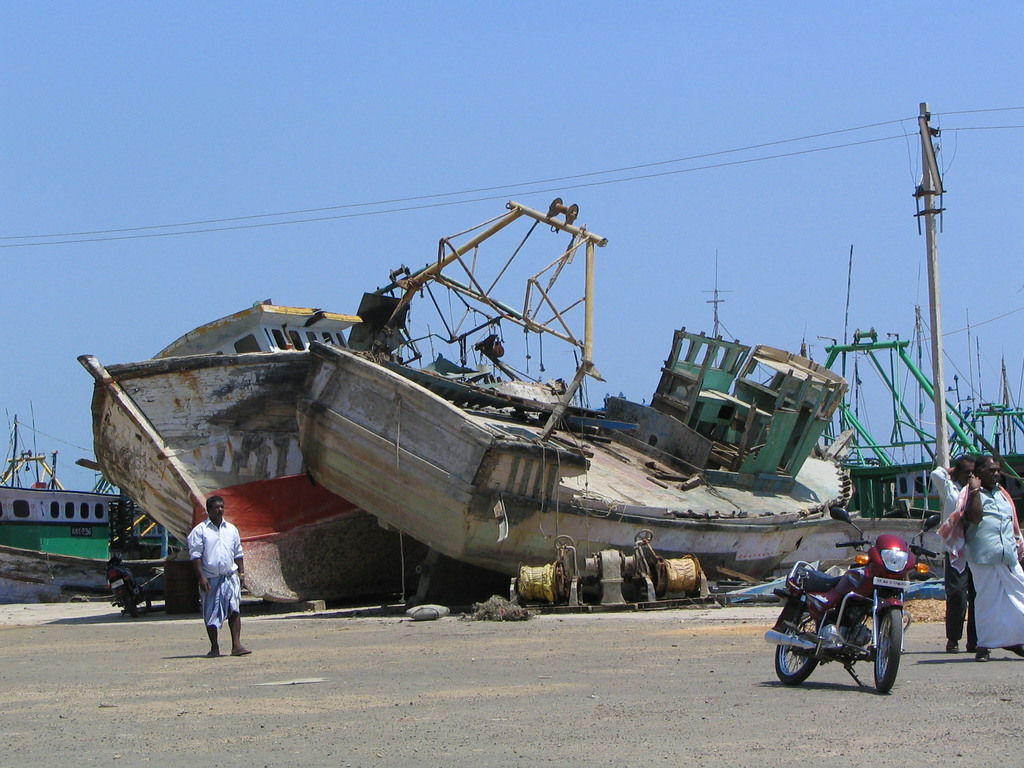Motorcycle: (756, 538, 933, 682)
